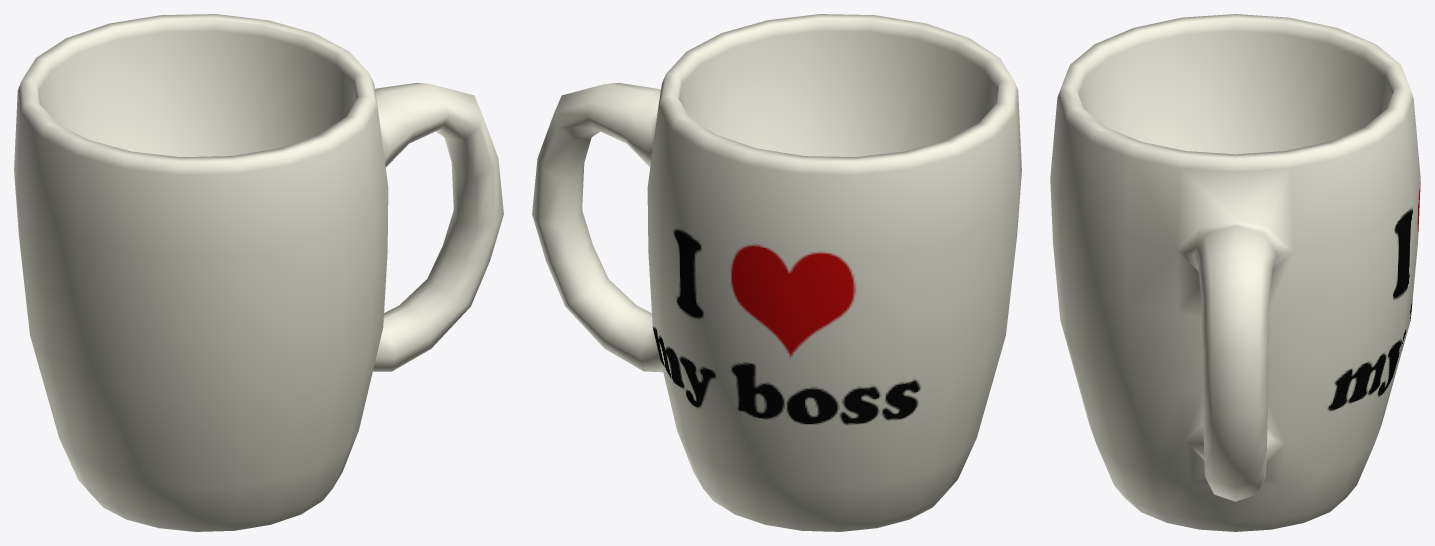
The model's file is SM_Mug.fbx.
3 views of the same model, side by side, from view 1: azimuth 30°, elevation 25°; view 2: azimuth 150°, elevation 25°; view 3: azimuth 270°, elevation 25° (orthographic). The views are drawn at different scales.
Parts seen in each view (by area): view 1: mug; view 2: mug; view 3: mug.
Boxes of the visible parts, <box> form: mug: <box>14,14,503,531</box>; mug: <box>532,14,1021,531</box>; mug: <box>1050,14,1420,531</box>.
Size of the model in its own units: 21.74 by 17.85 by 15.44.
Materials: 1 (1 with a texture image).
